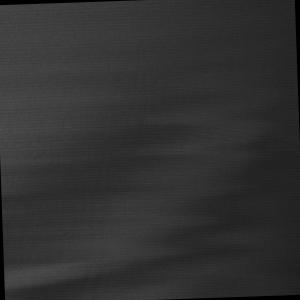Wrinkle: (1, 1, 300, 289)
